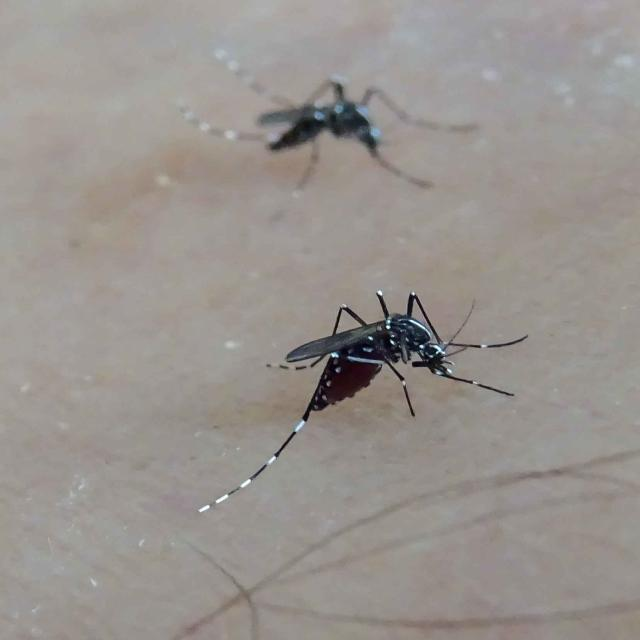albopictus: (200, 277, 529, 515)
